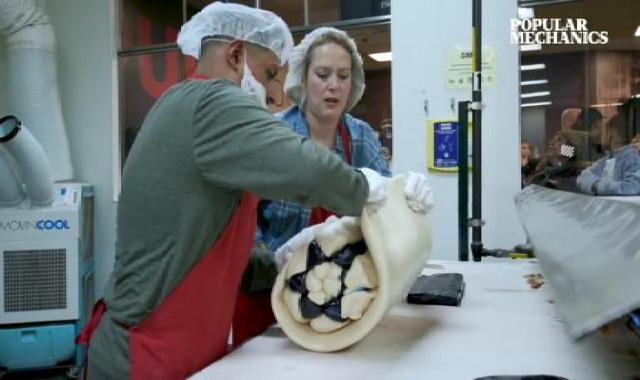hairnet: (171, 1, 303, 66), (283, 22, 380, 110)
